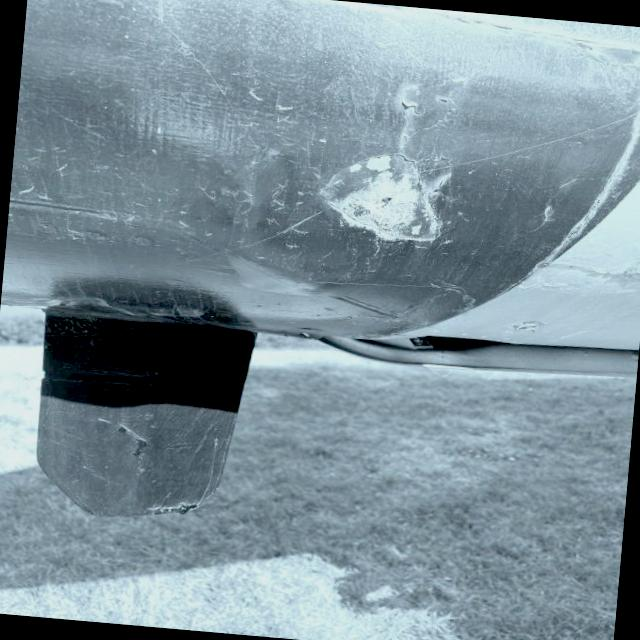crack: (390, 80, 462, 130)
dent: (304, 144, 463, 250)
